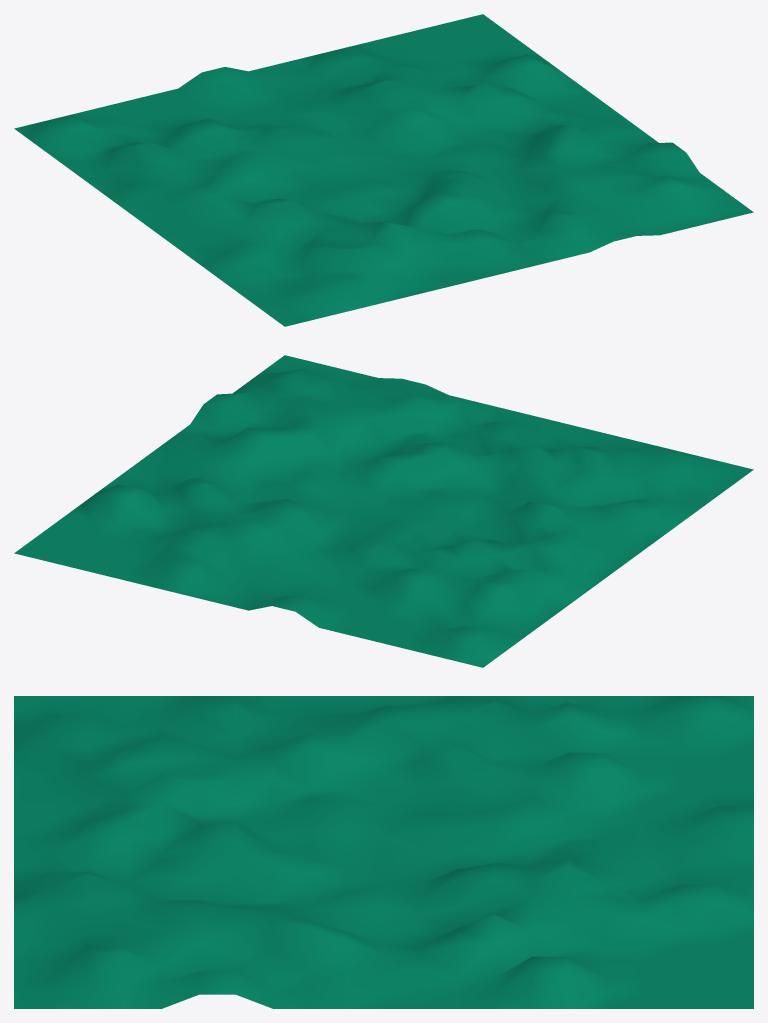
File: Ground1.fbx
3 renders of one model, top to bottom at view 1: azimuth 30°, elevation 25°; view 2: azimuth 150°, elevation 25°; view 3: azimuth 270°, elevation 25°, orthographic. The views are drawn at different scales.
Visible parts, largest first — view 1: pPlane1; view 2: pPlane1; view 3: pPlane1.
Part boxes in pixels (bbox=[...]): pPlane1: bbox=[14, 14, 753, 326]; pPlane1: bbox=[14, 355, 753, 667]; pPlane1: bbox=[14, 696, 753, 1008].
Bounding box in the file's own units: 50 × 2.37 × 50.
